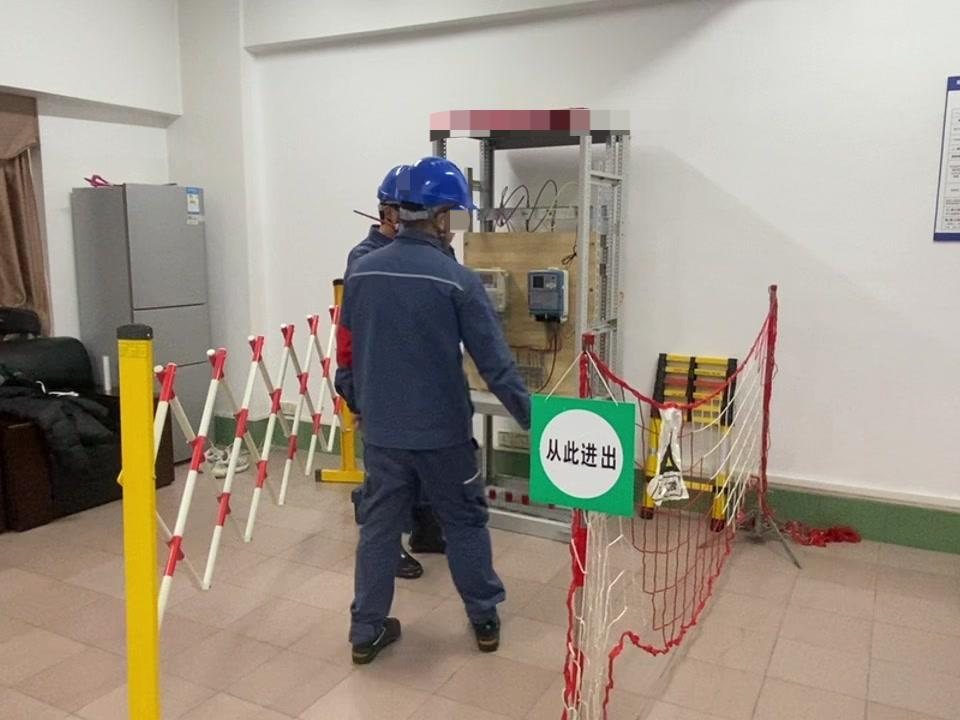halt: (397, 158, 477, 248), (377, 165, 414, 244)
inear: (430, 207, 461, 242)
